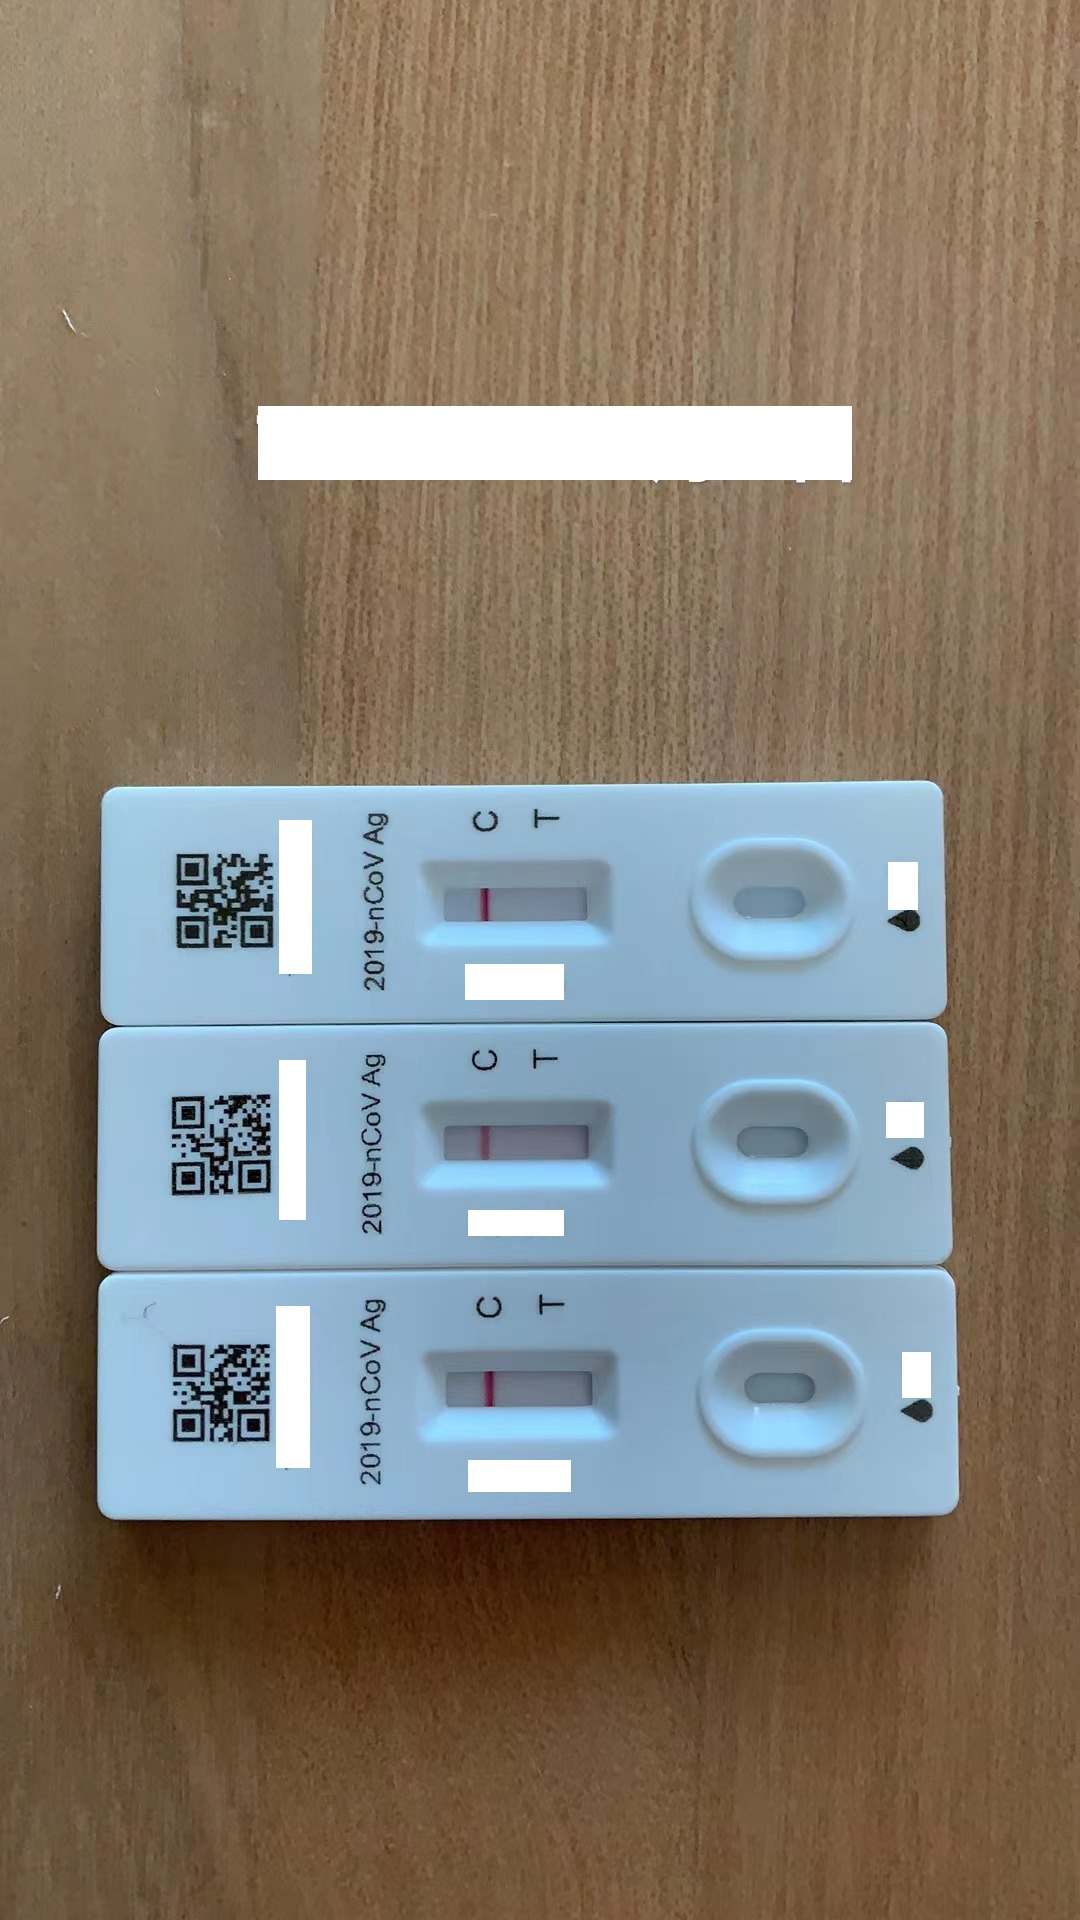negative: (404, 1091, 607, 1193), (429, 1345, 618, 1440), (418, 858, 611, 945)
